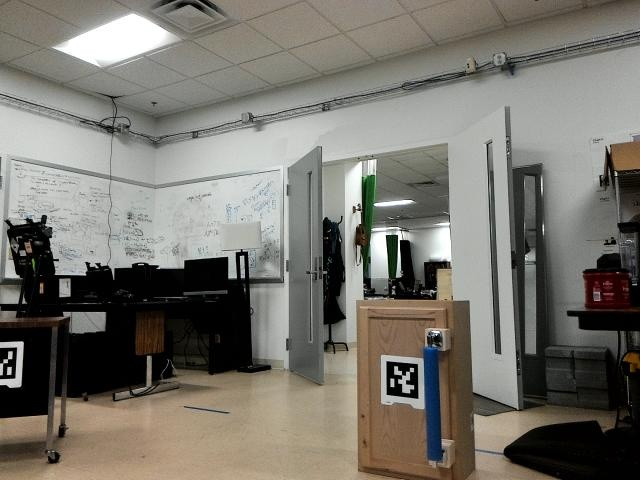noodle_handle: (422, 345, 446, 463)
